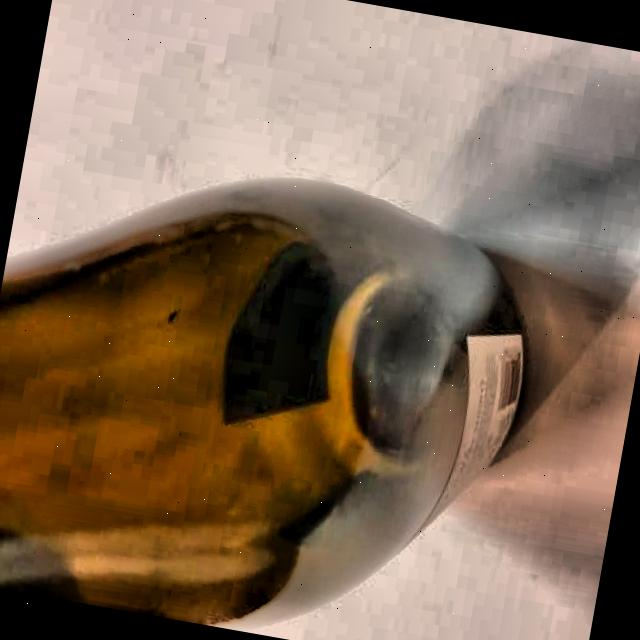glass: (0, 131, 552, 640)
